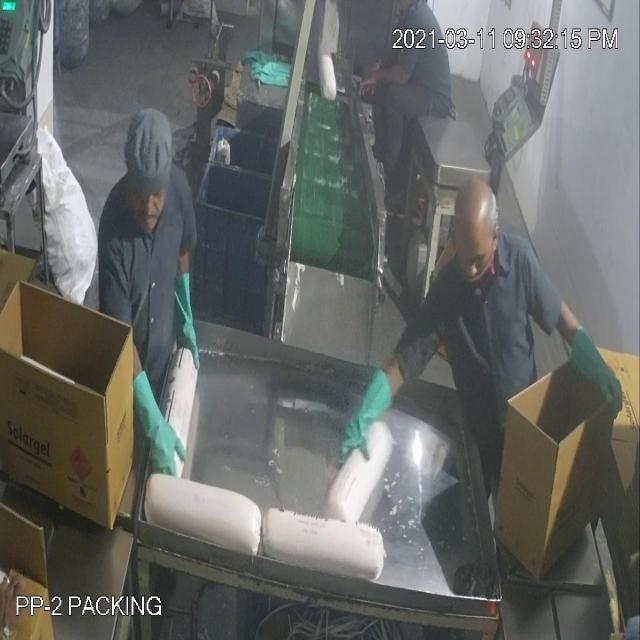Gloves: (46, 56, 596, 414)
